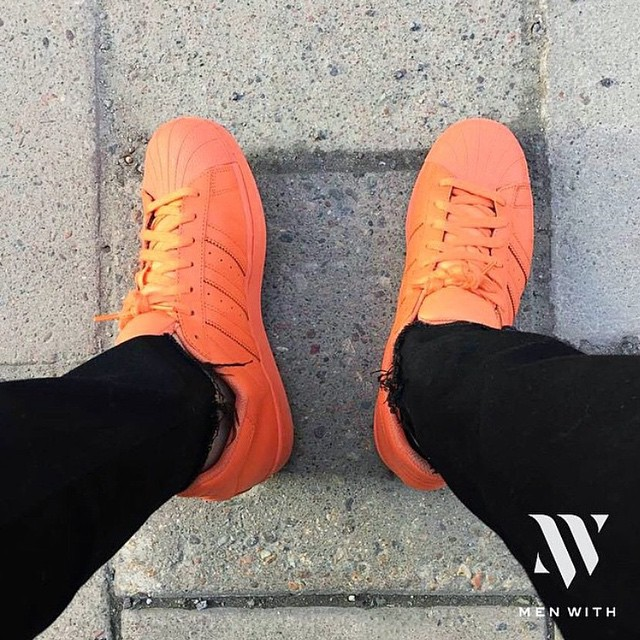sneaker: (86, 96, 320, 525), (354, 92, 568, 518)
